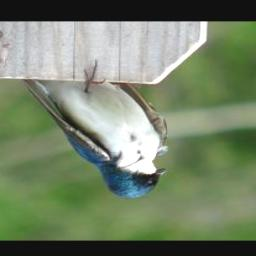Swallow: (20, 59, 171, 201)
